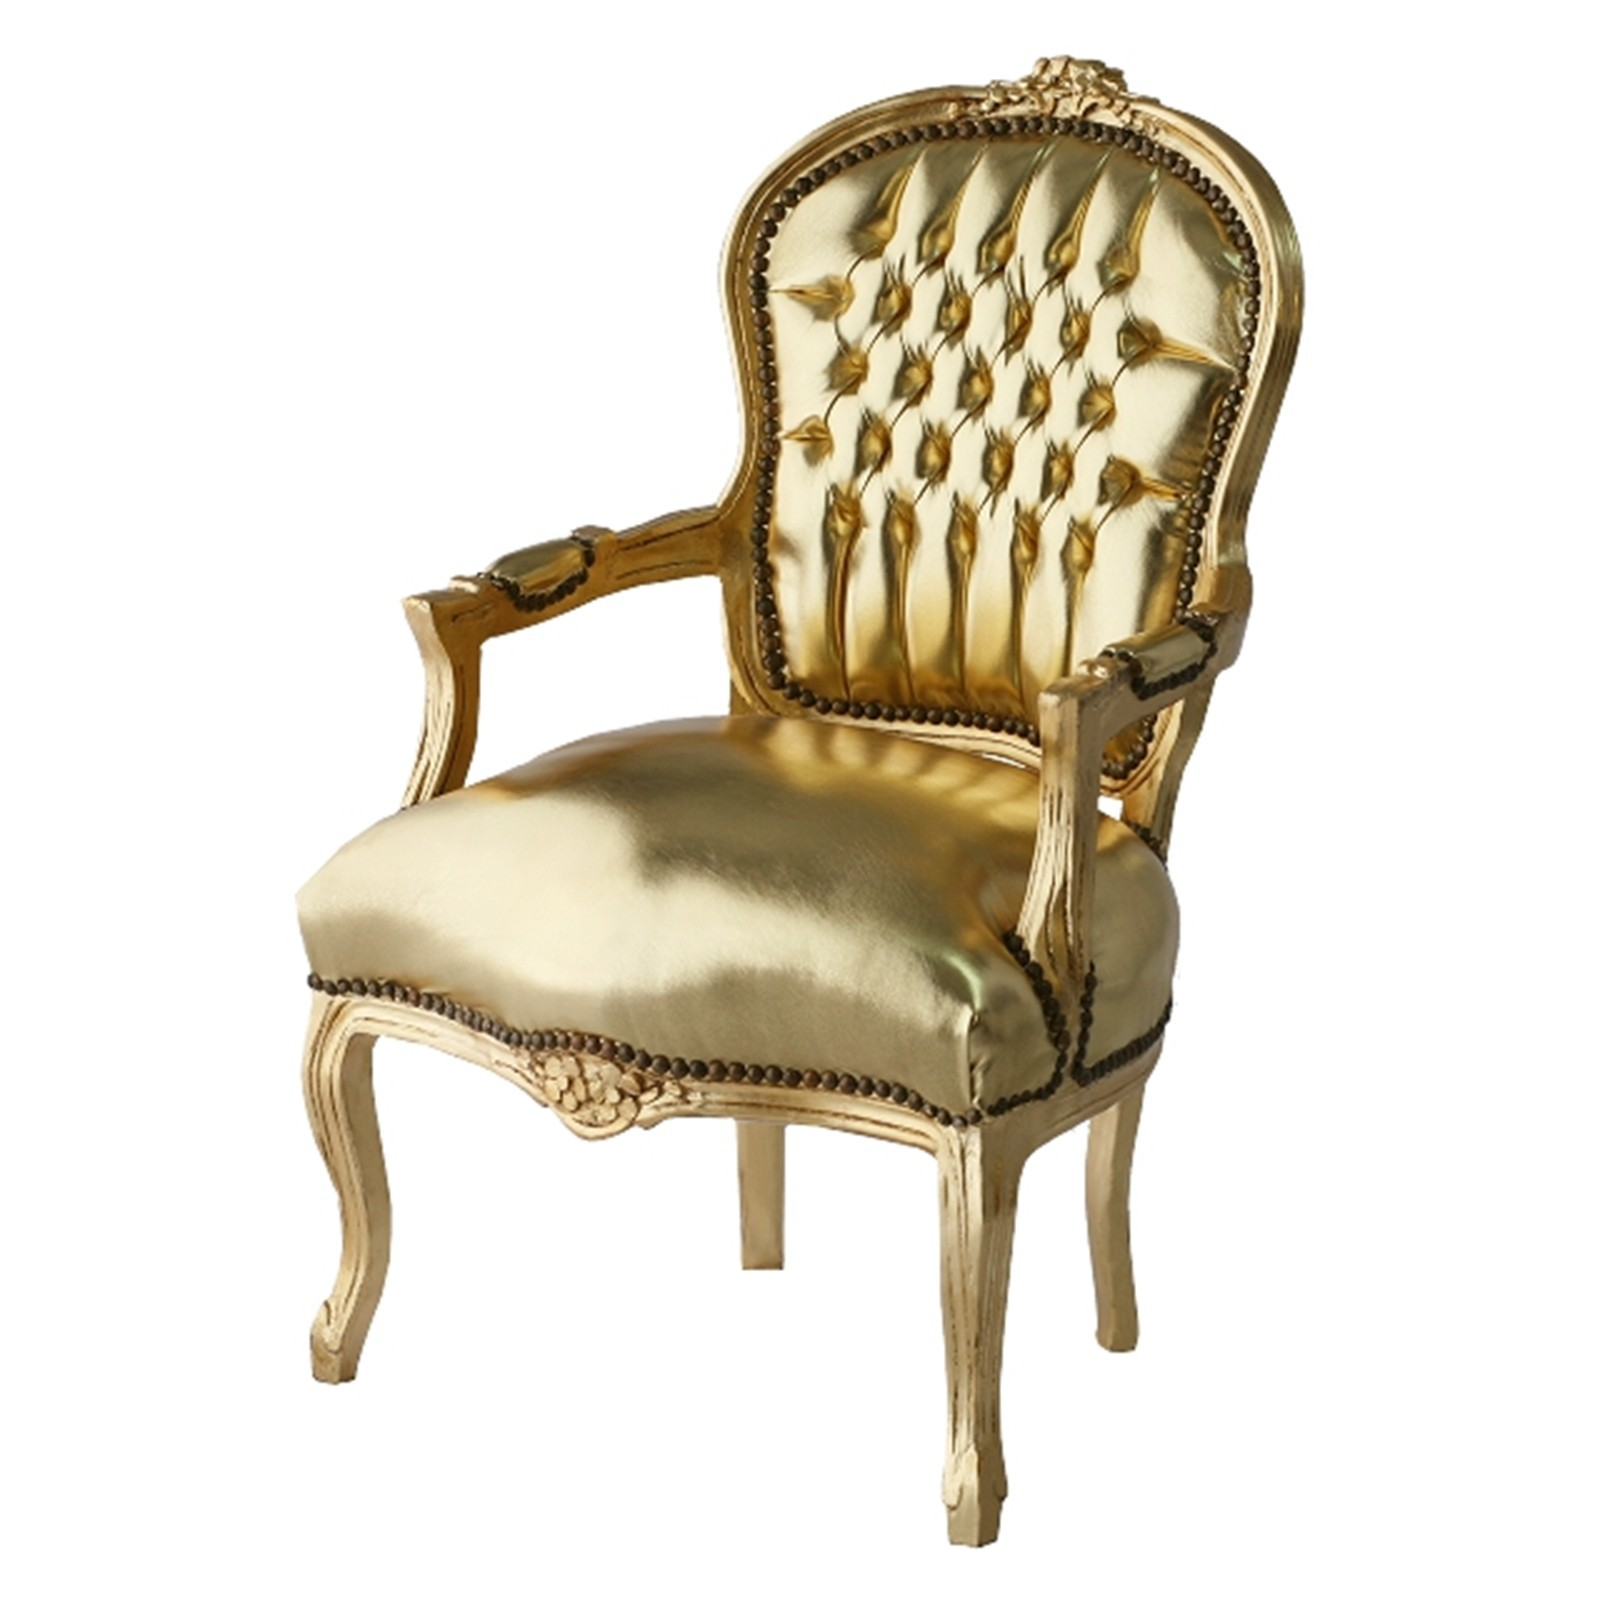chairs: (283, 51, 1308, 1552)
